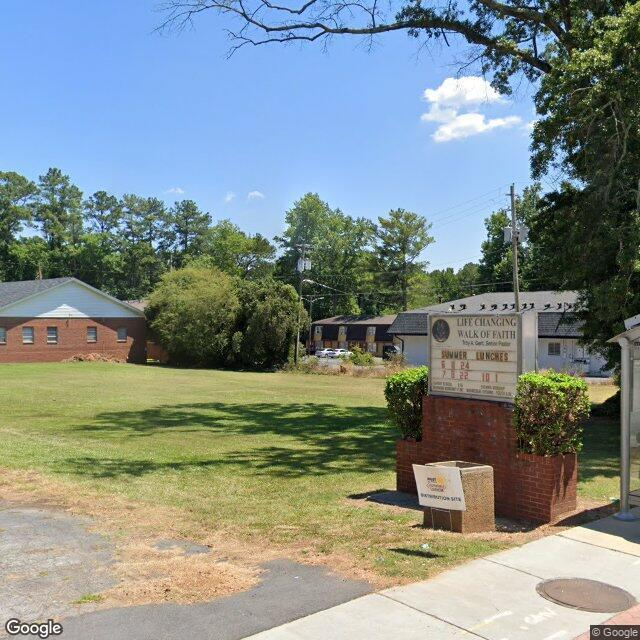shelter: (607, 324, 640, 533)
